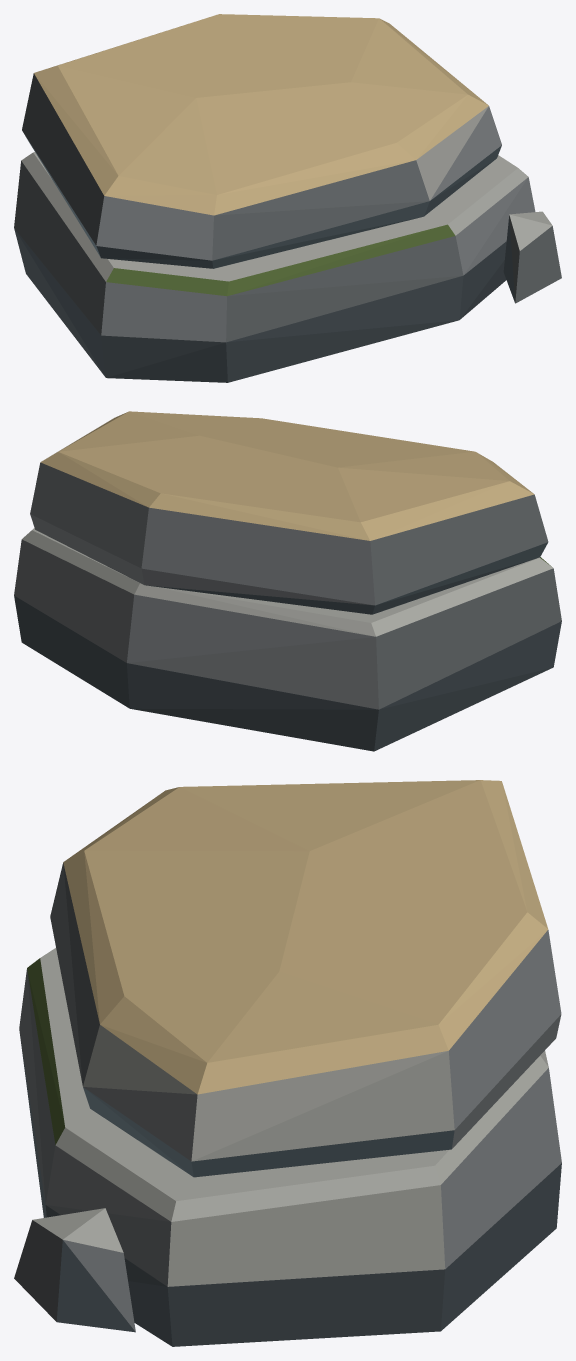
The model's file is rock-a.glb.
3 renders of one model, top to bottom at view 1: azimuth 30°, elevation 25°; view 2: azimuth 150°, elevation 25°; view 3: azimuth 270°, elevation 25°, orthographic. The views are drawn at different scales.
Parts seen in each view (by area): view 1: Rock_A_Slab; view 2: Rock_A_Slab; view 3: Rock_A_Slab.
Part boxes in pixels (bbox=[...]): Rock_A_Slab: bbox=[14, 14, 561, 382]; Rock_A_Slab: bbox=[14, 411, 561, 751]; Rock_A_Slab: bbox=[14, 780, 561, 1346].
Size of the model in its own units: 2.52 by 1.11 by 1.8.
Materials: 1 (1 with a texture image).
